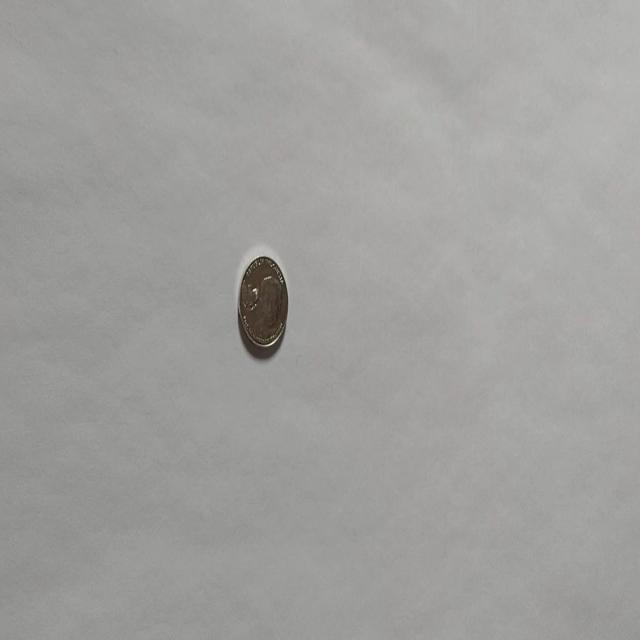seratus rupiah: (236, 254, 288, 350)
